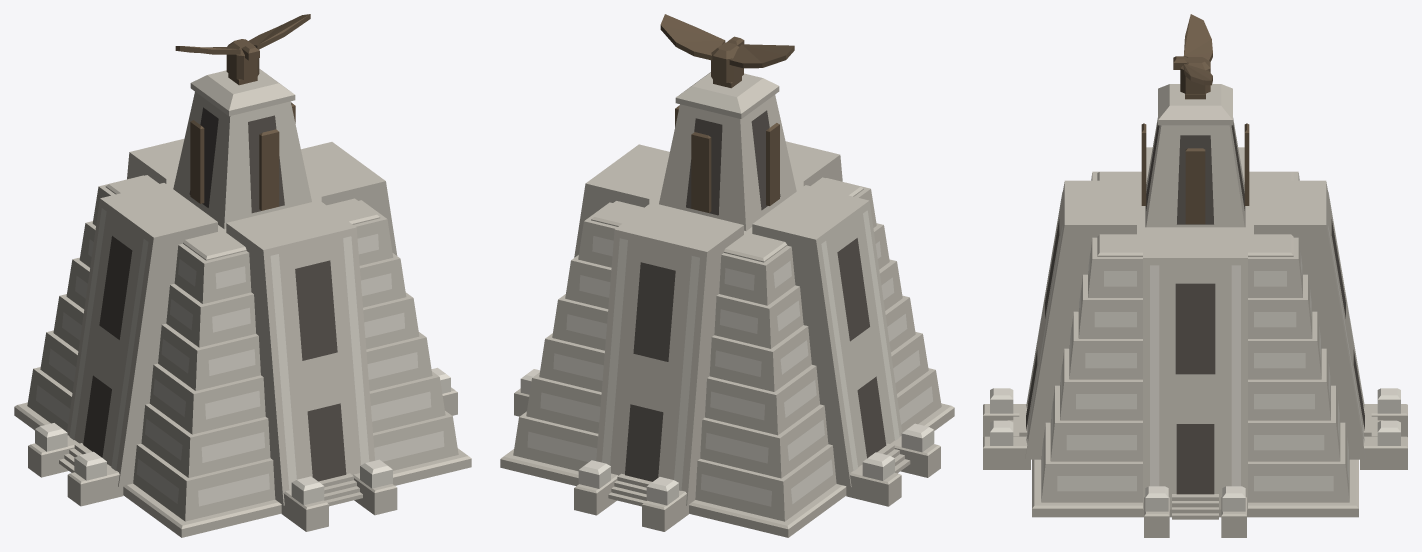
File: mexico-city-monumento-a-la-raza.glb
3 renders of one model, left to right at view 1: azimuth 30°, elevation 25°; view 2: azimuth 150°, elevation 25°; view 3: azimuth 270°, elevation 25°, orthographic. The views are drawn at different scales.
Parts seen in each view (by area): view 1: Monumento a la Raza; view 2: Monumento a la Raza; view 3: Monumento a la Raza.
Part boxes in pixels (x1=…): Monumento a la Raza: x1=14, y1=14, x2=471, y2=537; Monumento a la Raza: x1=500, y1=14, x2=954, y2=537; Monumento a la Raza: x1=983, y1=14, x2=1407, y2=537.
Size of the model in its own units: 36.4 by 38.1 by 36.4.
